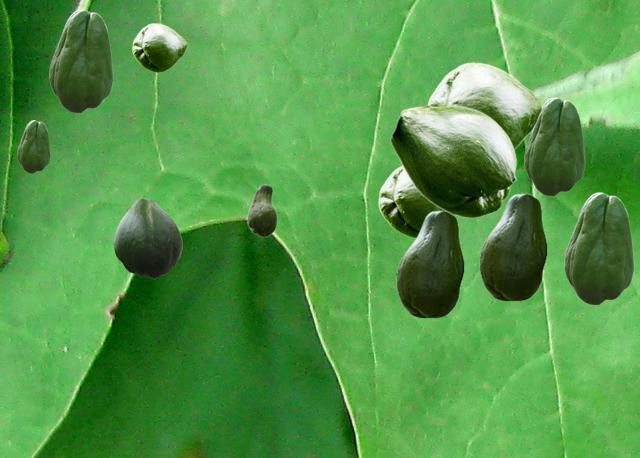sayote: (390, 105, 516, 217), (427, 62, 541, 149), (564, 192, 633, 304), (479, 193, 546, 300), (396, 210, 463, 317), (49, 9, 112, 112), (524, 97, 584, 195), (114, 198, 181, 278), (378, 166, 440, 237), (132, 23, 186, 71), (17, 120, 49, 172), (247, 184, 276, 236)
